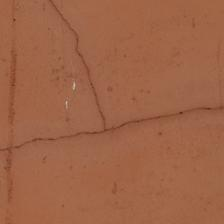Crack: (72, 22, 149, 88), (193, 0, 224, 127)
